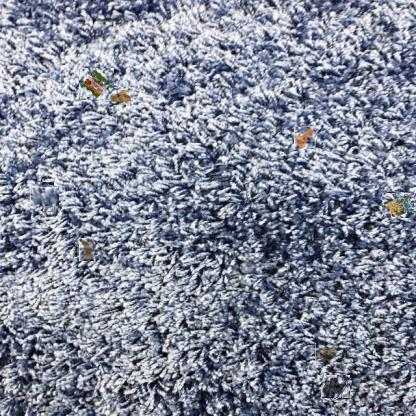dirty: (79, 67, 113, 101), (382, 192, 414, 218), (294, 128, 316, 149), (315, 343, 338, 363), (109, 87, 133, 105), (77, 240, 96, 259)
liquid: (322, 374, 349, 400), (32, 184, 56, 208)
